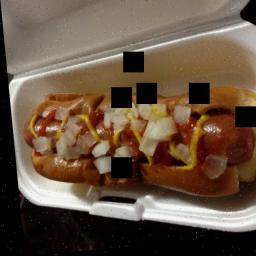hotdog: (17, 79, 256, 215)
